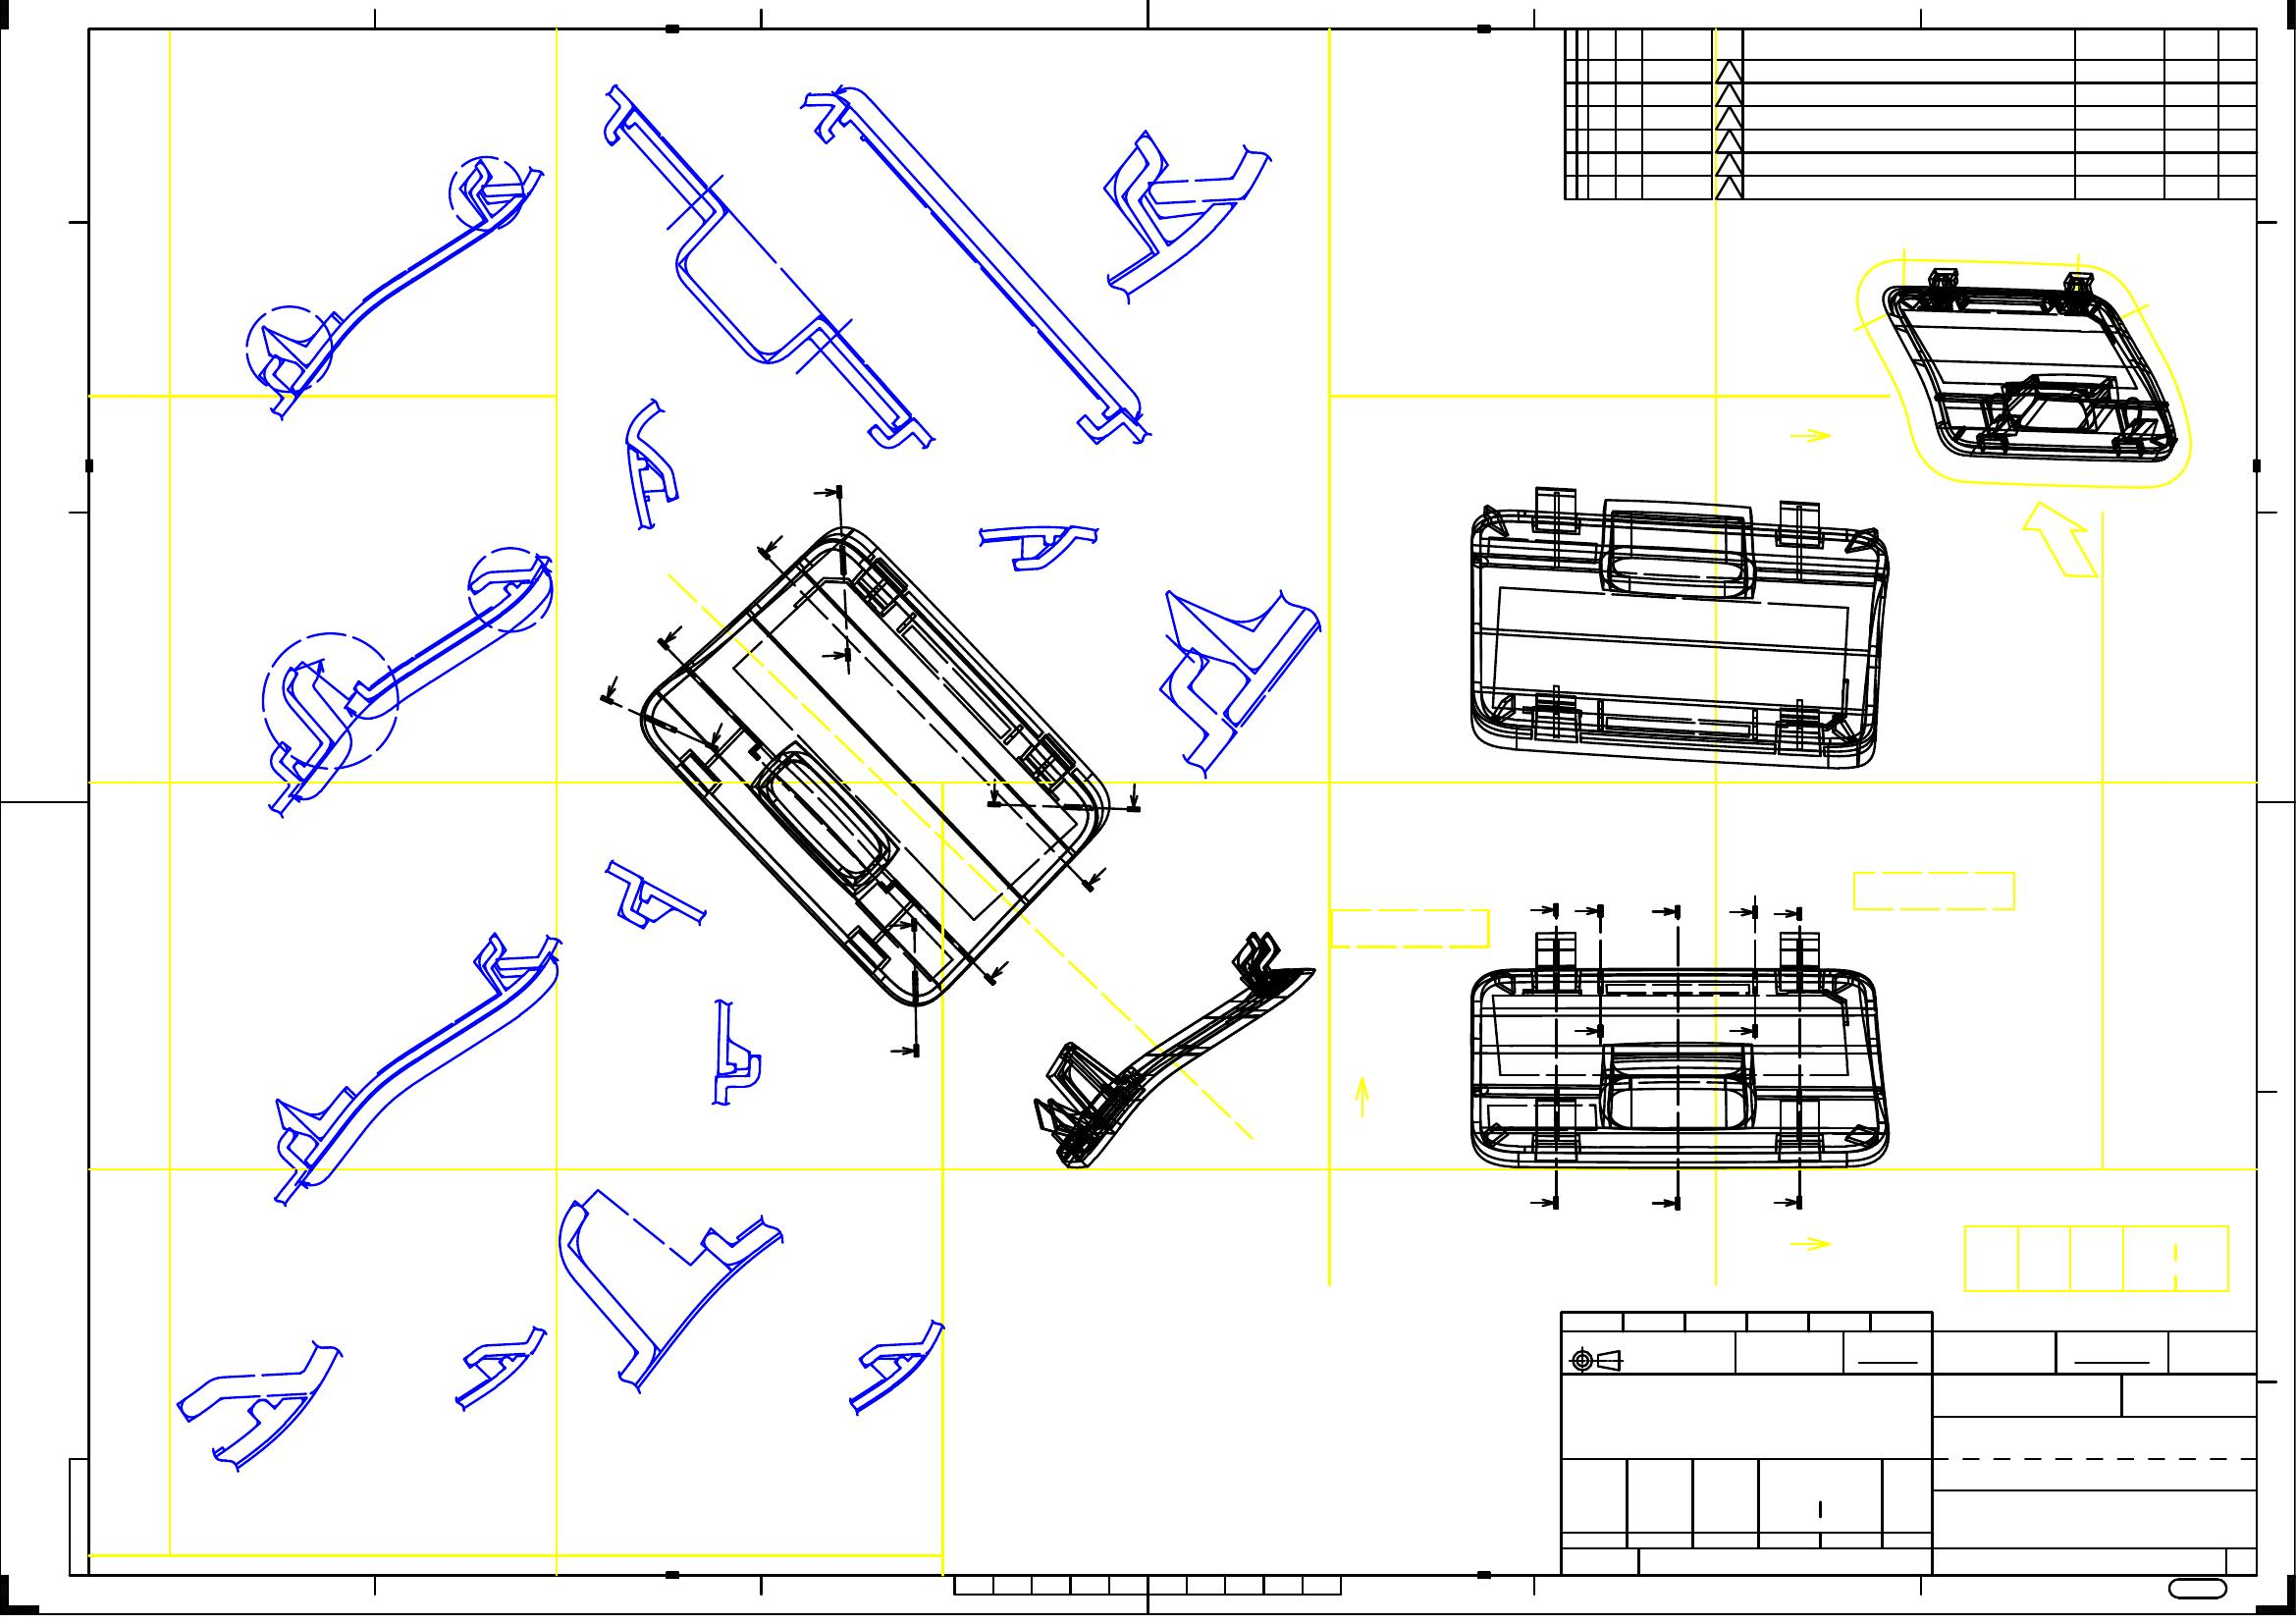object: (639, 527, 1112, 1007), (799, 93, 1152, 445), (603, 83, 936, 448), (1470, 487, 1890, 770), (1472, 932, 1890, 1169), (274, 932, 562, 1204), (256, 156, 545, 422), (269, 554, 553, 819), (1031, 930, 1316, 1169), (1881, 267, 2177, 462), (559, 1188, 783, 1396), (1158, 589, 1321, 777), (1103, 128, 1272, 304), (176, 1338, 343, 1473), (848, 1320, 945, 1417), (455, 1325, 548, 1411), (624, 397, 678, 531), (604, 859, 706, 928), (710, 998, 762, 1104), (978, 526, 1100, 571)
title_block: (1558, 1309, 2256, 1575), (1565, 28, 2256, 199)
